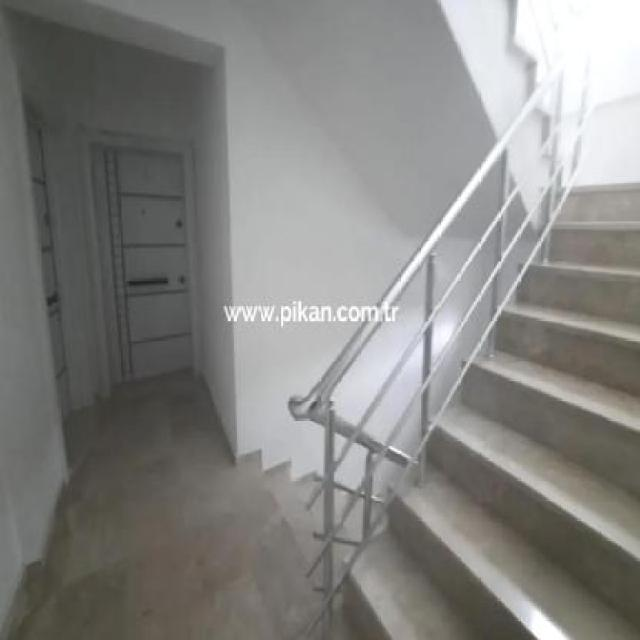stair: (319, 184, 639, 640), (473, 0, 572, 158)
